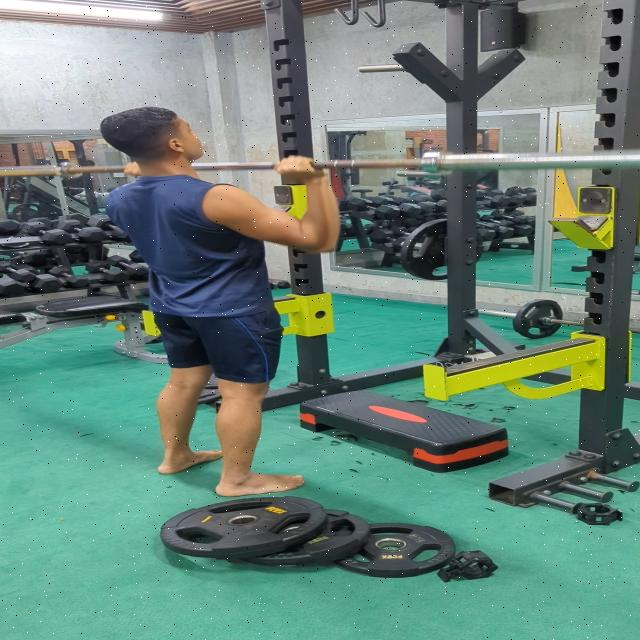Normal_OverheadPress: (74, 75, 356, 493)
